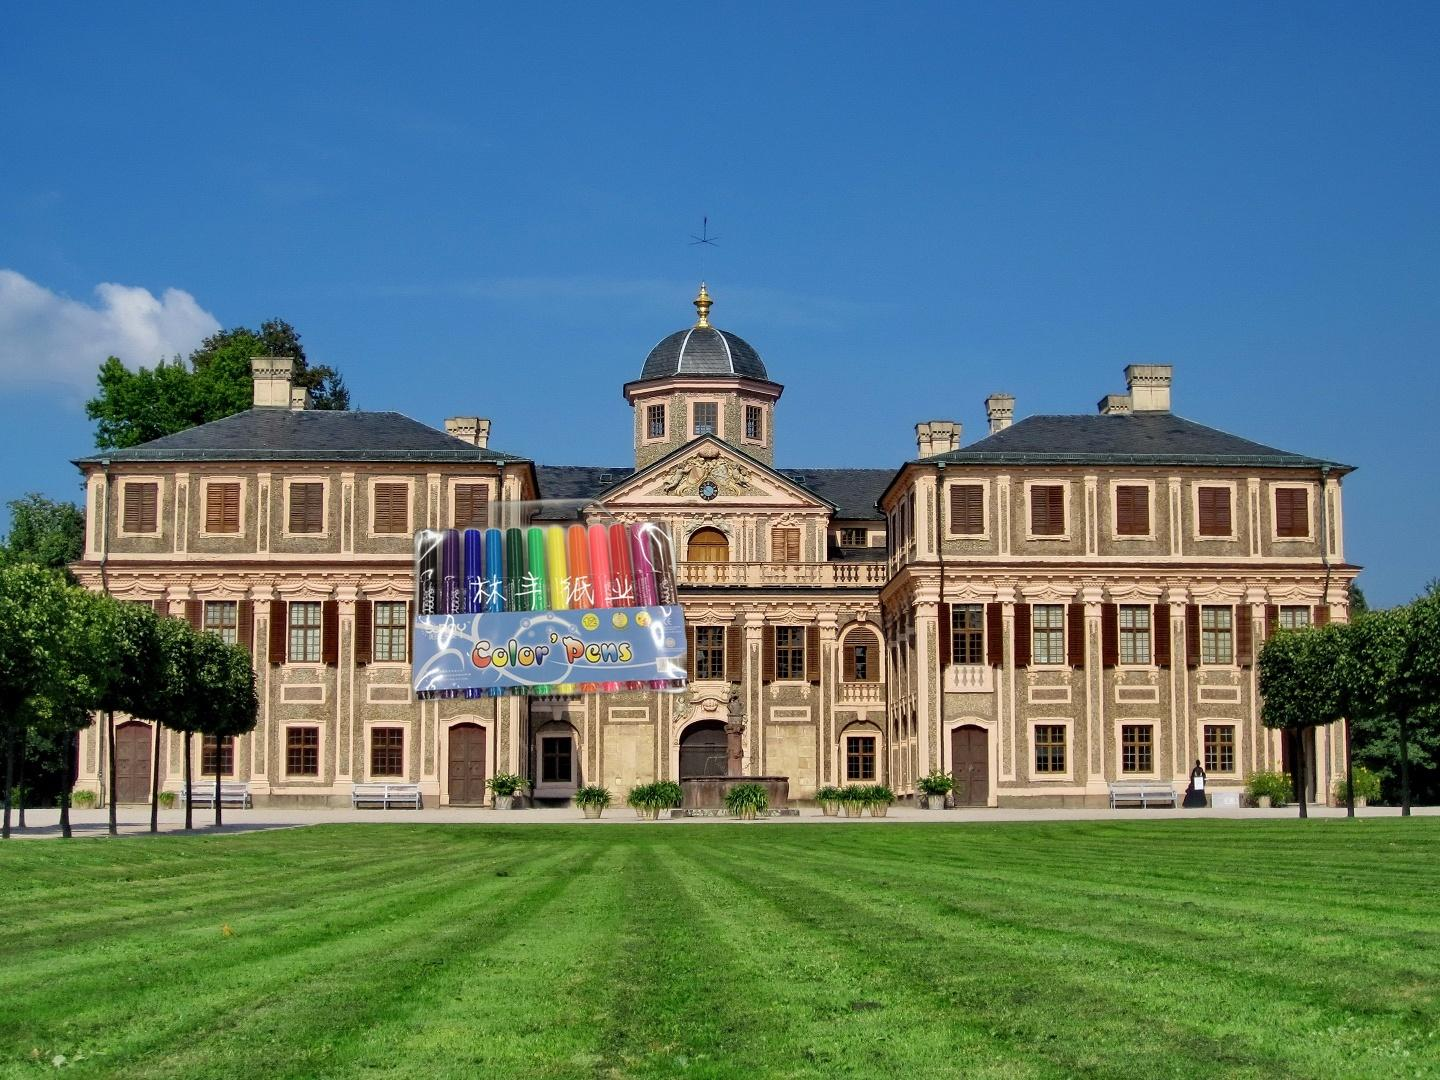penholder: (387, 408, 687, 709)
